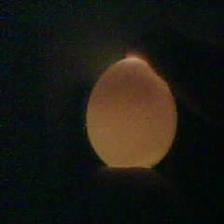infertile: (86, 56, 177, 170)
